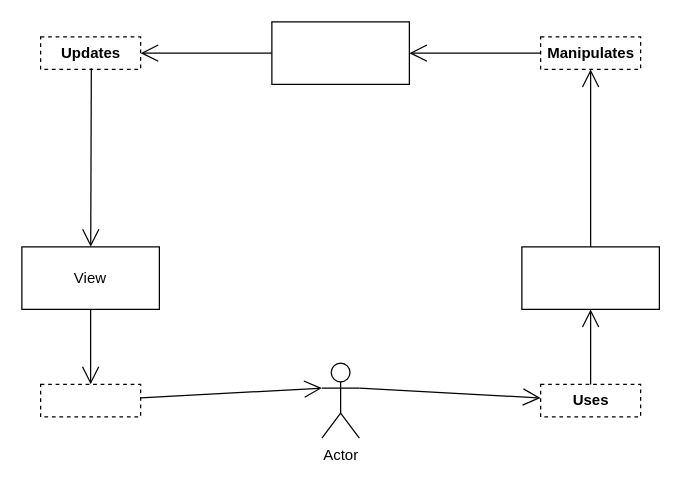
This 681x486 diagram has some shape labels left out. The centre of each missing label's shape, as x and y in pixels:
"Controller" goes at point 590,277.
"Model" goes at point 340,52.
"Sees" goes at point 90,400.
